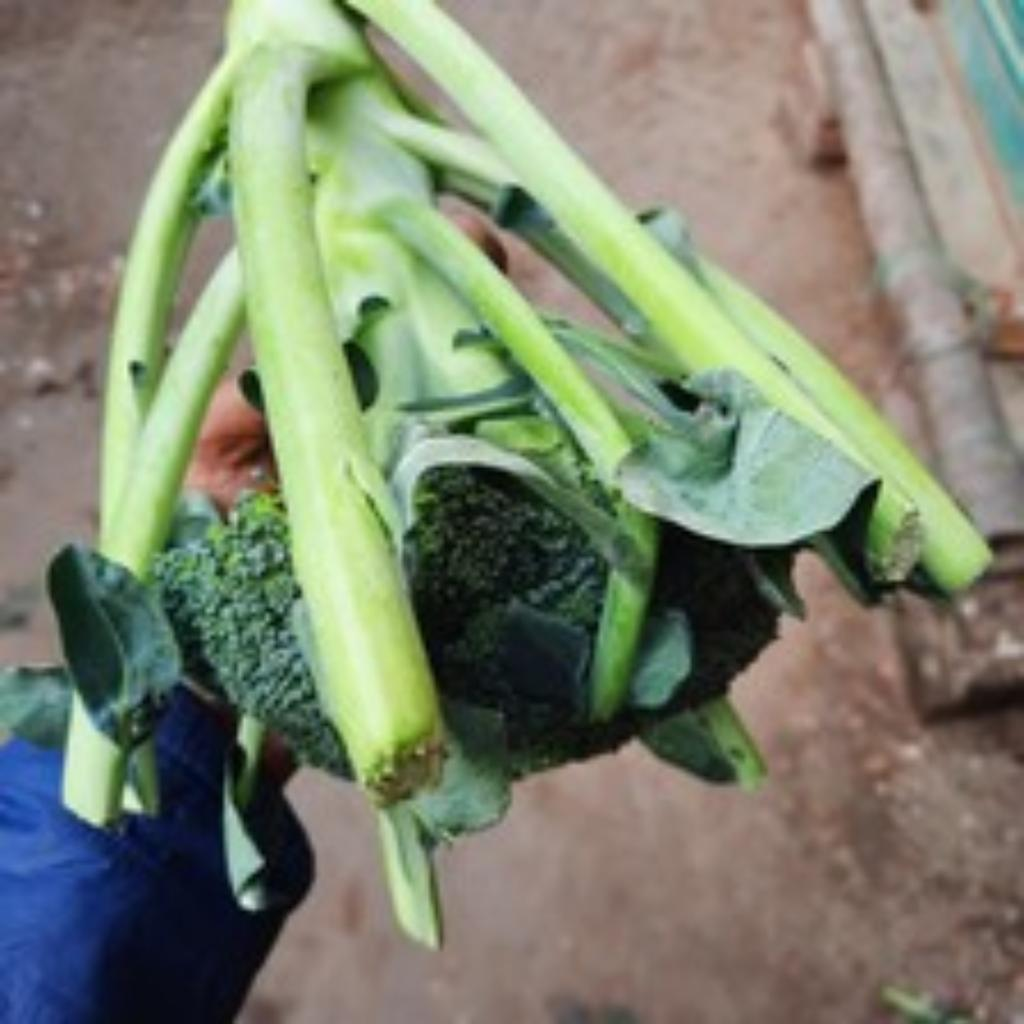Broccoli: (404, 472, 780, 773), (406, 474, 780, 771), (152, 496, 350, 773), (154, 496, 346, 769)
